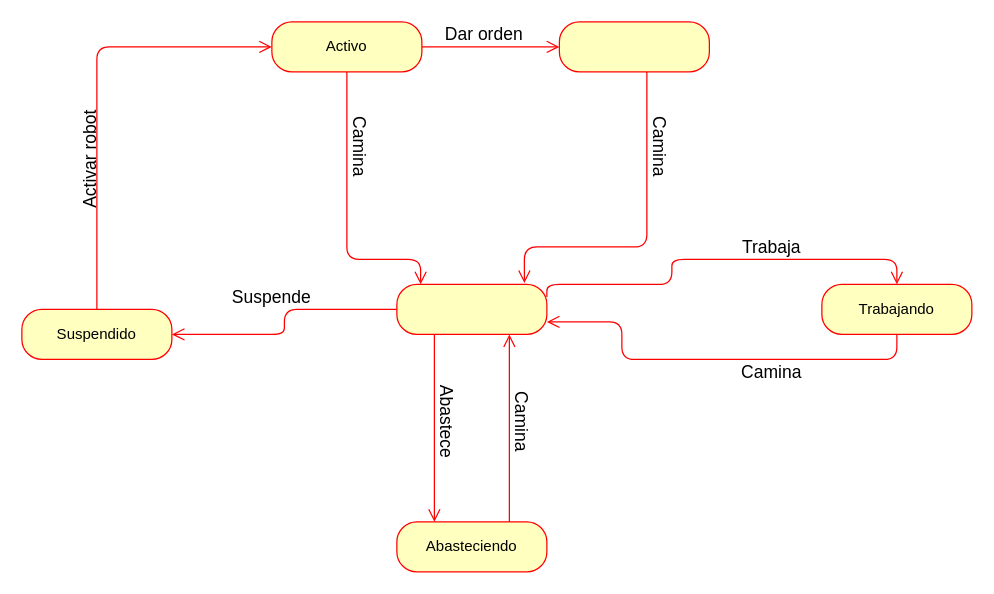
The diagram is 994 pixels wide and 594 high, and some of its shapes have lost their labels. Each missing label, with the centre of its shape:
"Caminando" belongs at pixel 471 308.
"Recibiendo orden" belongs at pixel 633 46.
